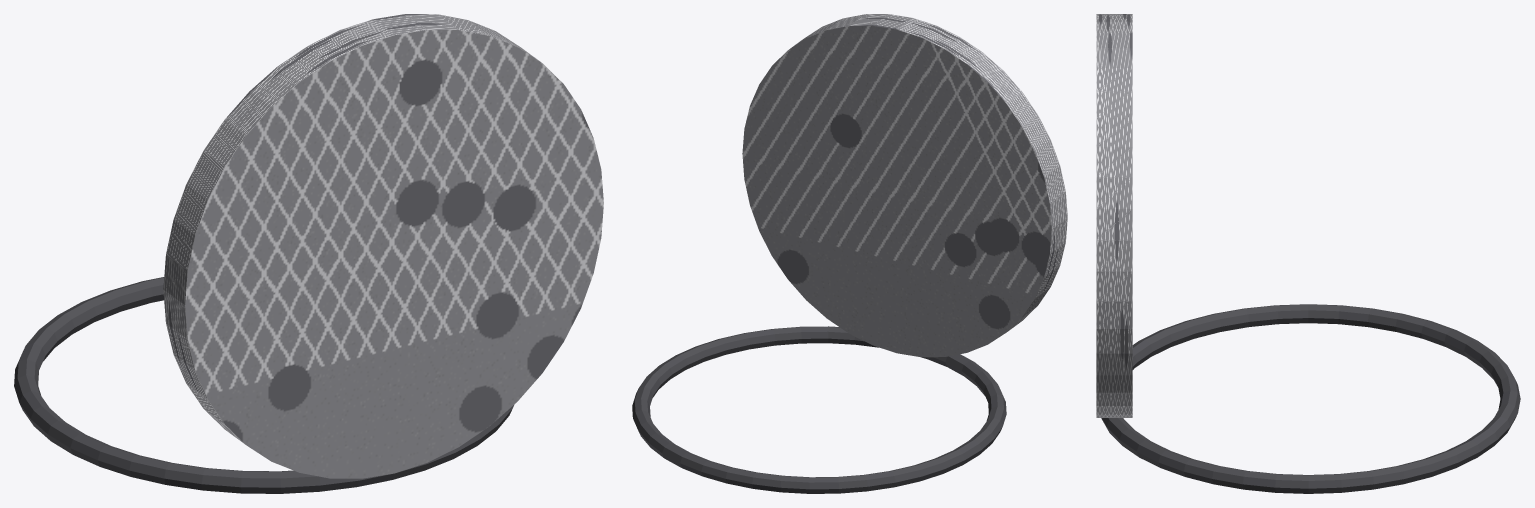
File: meteorite.glb
The picture shows the model from 3 angles, left to right: view 1: azimuth 30°, elevation 25°; view 2: azimuth 150°, elevation 25°; view 3: azimuth 270°, elevation 25°; orthographic projection. The views are drawn at different scales.
Parts seen in each view (by area): view 1: slice, crust; view 2: slice, crust; view 3: crust, slice.
Part boxes in pixels (x1,y1,x2,y2): slice: [163, 14, 603, 478]; crust: [14, 277, 514, 493]; slice: [742, 14, 1067, 357]; crust: [632, 326, 1006, 493]; crust: [1101, 304, 1520, 493]; slice: [1096, 14, 1132, 417].
Bounding box in the file's own units: 2.1 × 2.05 × 2.1.
Materials: 2 (1 with a texture image).
